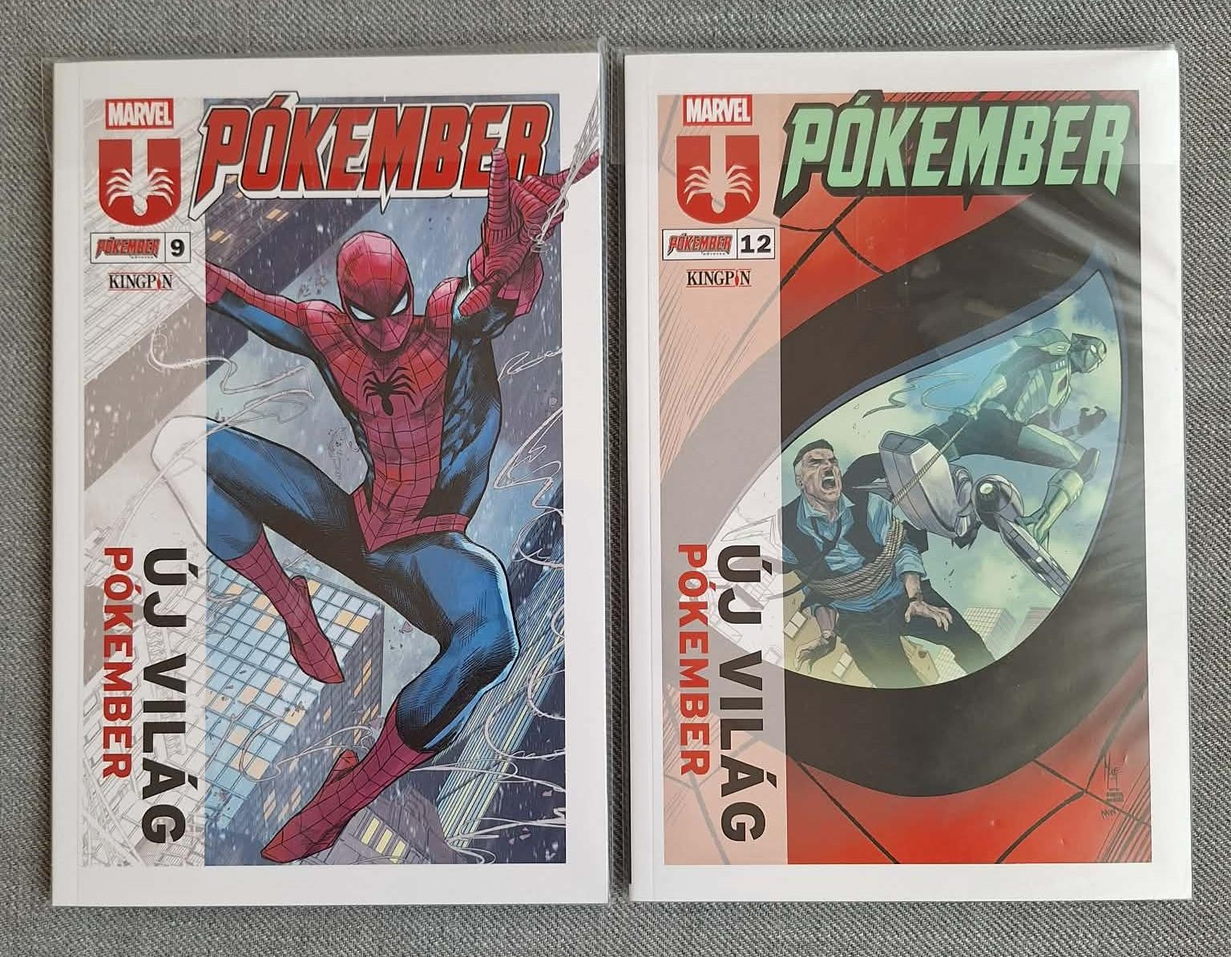comic: (625, 50, 1190, 901), (53, 53, 607, 904)
